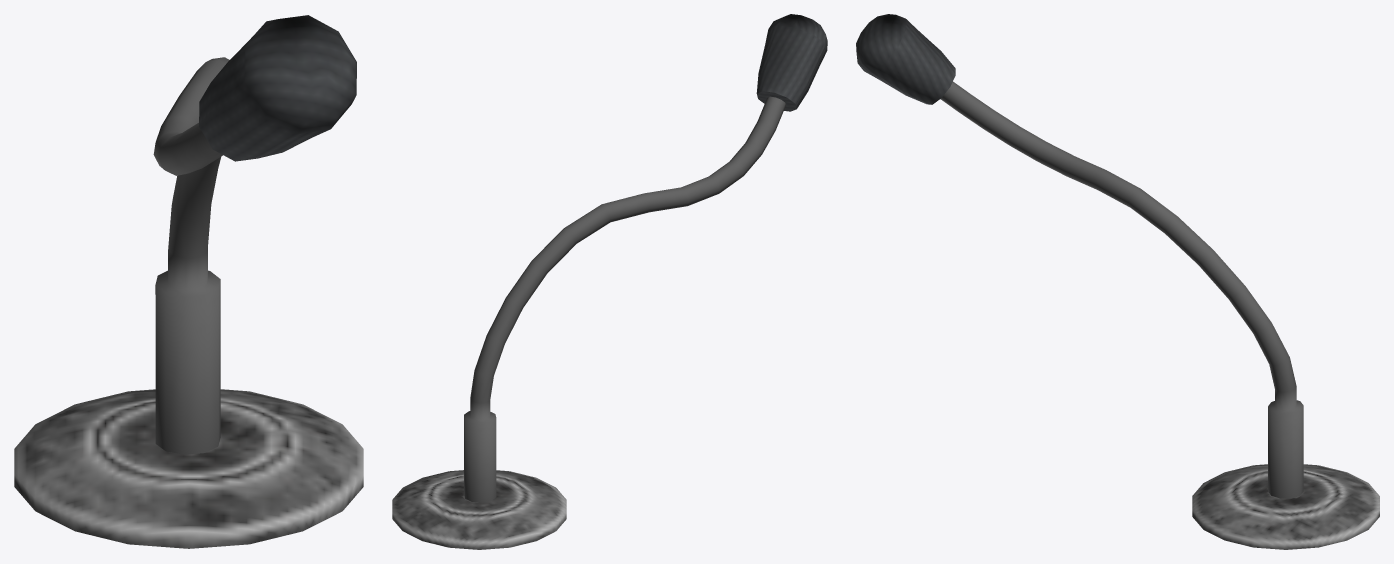
Rendered from SM_Mic.fbx.
3 views of the same model, side by side, from view 1: azimuth 30°, elevation 25°; view 2: azimuth 150°, elevation 25°; view 3: azimuth 270°, elevation 25° (orthographic). The views are drawn at different scales.
Parts seen in each view (by area): view 1: SM_Mic; view 2: SM_Mic; view 3: SM_Mic.
Part boxes in pixels (<box>): SM_Mic: <box>14,15,363,548</box>; SM_Mic: <box>392,14,827,549</box>; SM_Mic: <box>856,14,1379,549</box>.
Bounding box in the file's own units: 20.34 × 36.43 × 32.47.
Materials: 1 (1 with a texture image).
